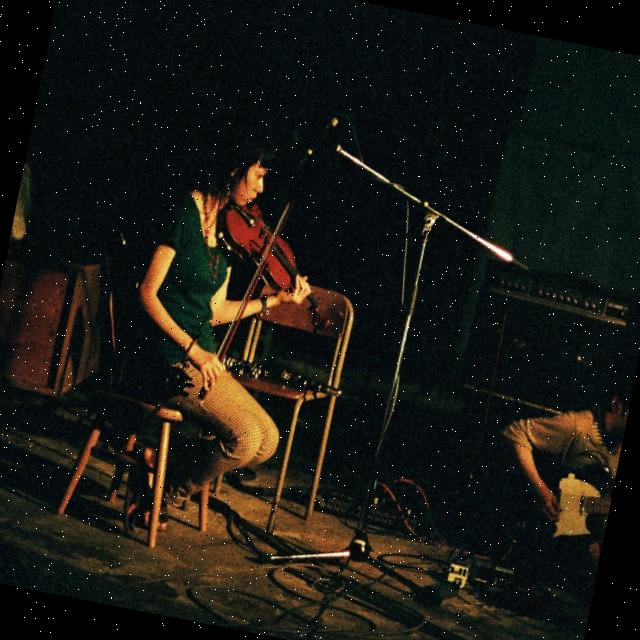guitar: (514, 450, 618, 550)
violin: (200, 193, 358, 338)
